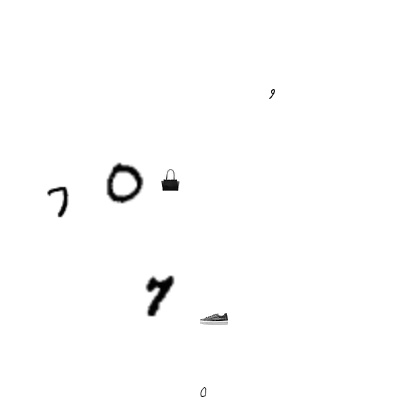0: (95, 155, 151, 211), (196, 385, 210, 399)
7: (130, 264, 186, 320), (40, 178, 82, 220)
9: (265, 86, 279, 100)
Bag: (159, 169, 181, 191)
Sneaker: (200, 305, 228, 333)
